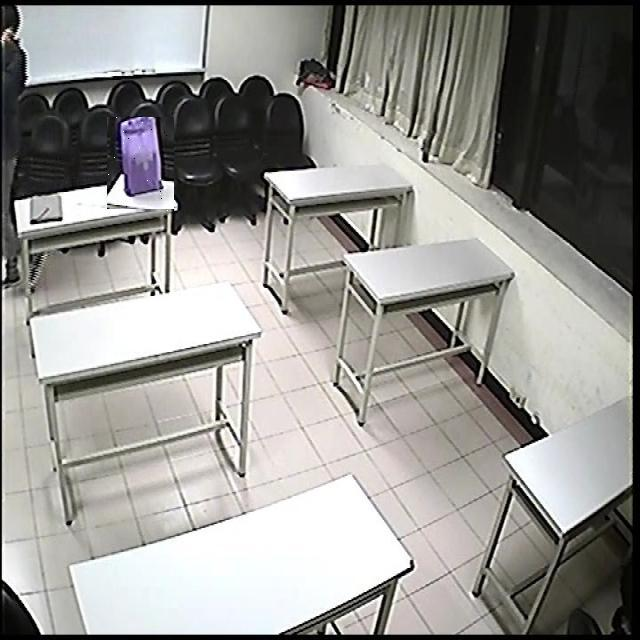abandoned-object: (107, 118, 174, 212)
